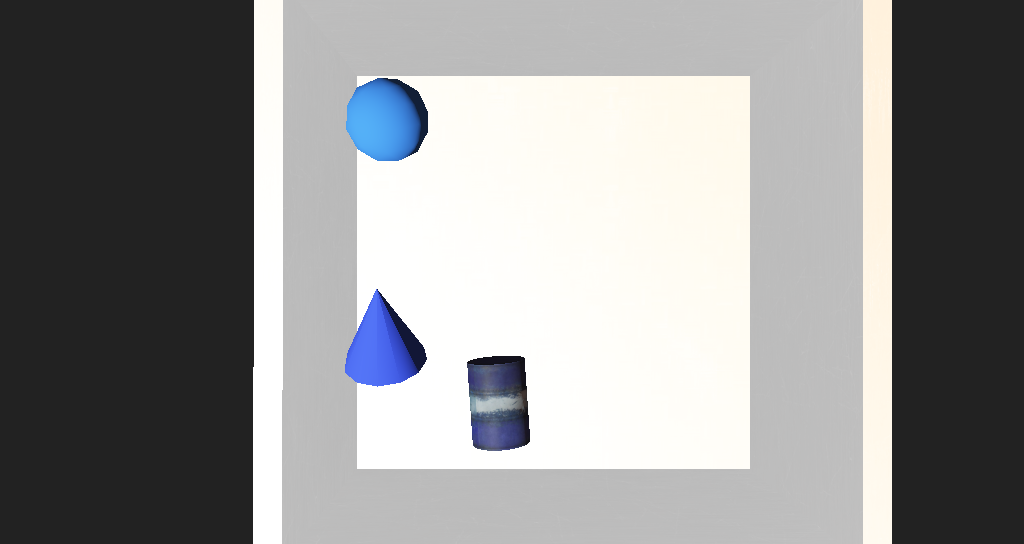cone: (441, 313, 488, 365)
cylinder: (330, 270, 411, 332)
sphere: (344, 162, 411, 210)
